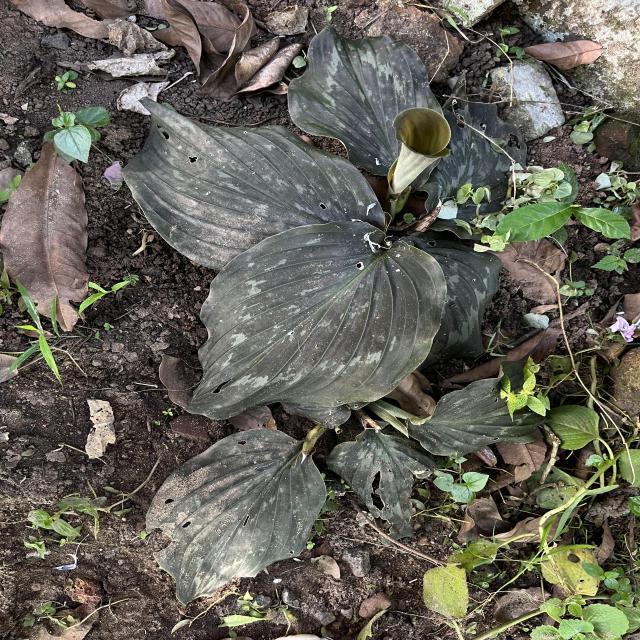Kaempferia galanga linn: (176, 218, 449, 422), (119, 94, 389, 272), (143, 426, 330, 608), (285, 24, 446, 178)
